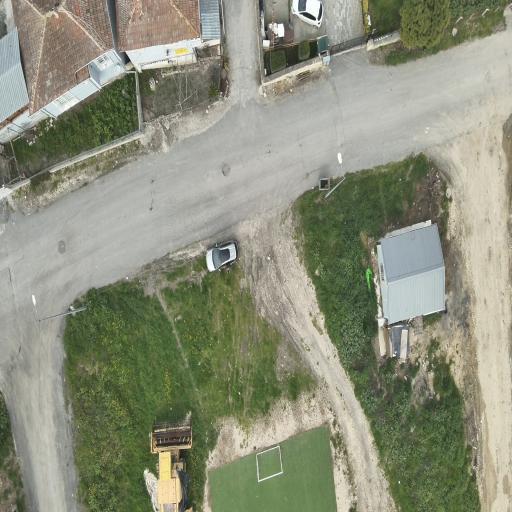car: (206, 240, 238, 271), (292, 0, 323, 28)
harvester: (151, 421, 192, 511)
